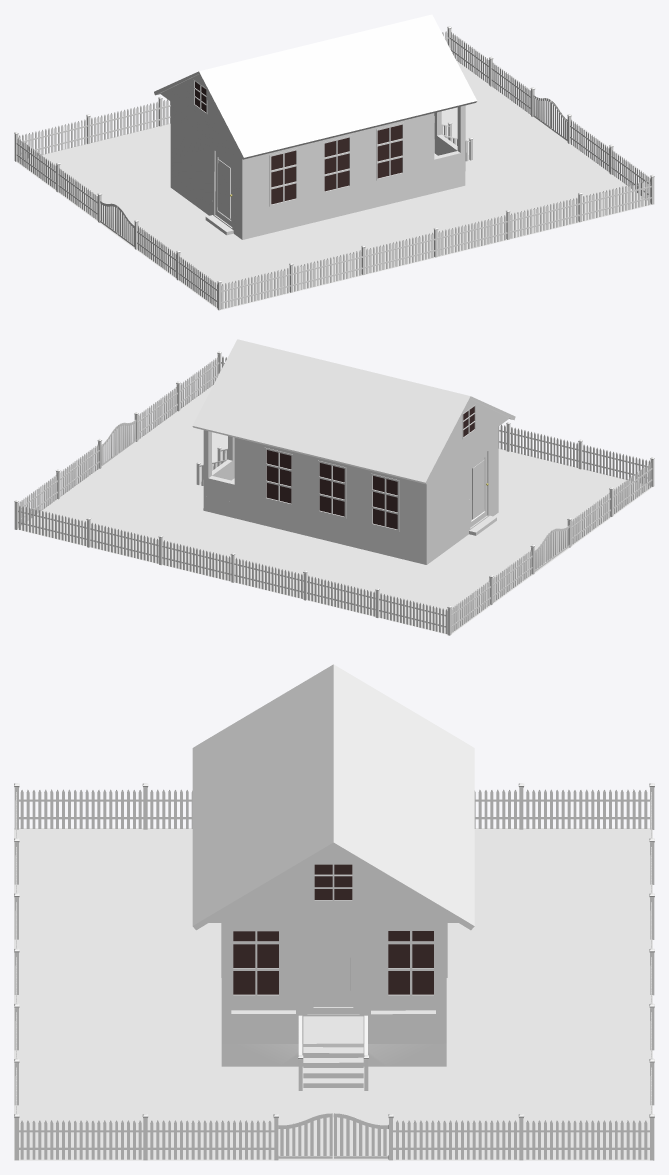
Rendered from house.glb.
3 views of the same model, one above another, from view 1: azimuth 30°, elevation 25°; view 2: azimuth 150°, elevation 25°; view 3: azimuth 270°, elevation 25° (orthographic). The views are drawn at different scales.
Visible parts, largest first — view 1: grass, roof, cottage_main, fence16, polySurface30, fence19, fence8, fence17, fence18, fence15, fence14, fence9 (+15 smaller); view 2: grass, roof, cottage_main, fence6, fence9, polySurface30, fence5, fence7, fence18, fence4, fence8, fence19 (+15 smaller); view 3: grass, roof, cottage_main, fence1, fence3, fence2, fence, fence10, fence13, front_door, front_entrance_left, front_entrance_right (+4 smaller).
Boxes of the visible parts, box(x1,y1,x2,y2) form: grass: box(16, 59, 653, 310); roof: box(154, 14, 476, 159); cottage_main: box(170, 102, 465, 239); fence16: box(437, 215, 507, 256); polySurface30: box(212, 147, 233, 229); fence19: box(221, 268, 290, 309); fence8: box(90, 101, 159, 142); fence17: box(365, 232, 435, 273); fence18: box(293, 250, 362, 291); fence15: box(510, 197, 579, 238); fence14: box(582, 180, 651, 220); fence9: box(19, 119, 87, 160); grass: box(18, 384, 652, 634); roof: box(192, 339, 515, 484); cottage_main: box(203, 427, 498, 564); fence6: box(162, 540, 231, 581); fence9: box(379, 593, 447, 633); polySurface30: box(469, 447, 489, 530); fence5: box(90, 522, 158, 563); fence7: box(234, 557, 303, 598); fence18: box(510, 427, 578, 467); fence4: box(18, 505, 86, 545); fence8: box(307, 575, 375, 616); fence19: box(582, 444, 650, 485); grass: box(14, 828, 652, 1160); roof: box(192, 664, 474, 930); cottage_main: box(221, 923, 446, 1087); fence1: box(147, 1120, 274, 1159); fence3: box(523, 1120, 649, 1159); fence2: box(393, 1120, 519, 1159); fence: box(19, 1120, 143, 1159); fence10: box(523, 789, 649, 828); fence13: box(19, 789, 143, 828); front_door: box(307, 938, 359, 1014); front_entrance_left: box(278, 1113, 332, 1159); front_entrance_right: box(333, 1113, 388, 1159).
Bounding box in the file's own units: 189 × 59.98 × 154.
